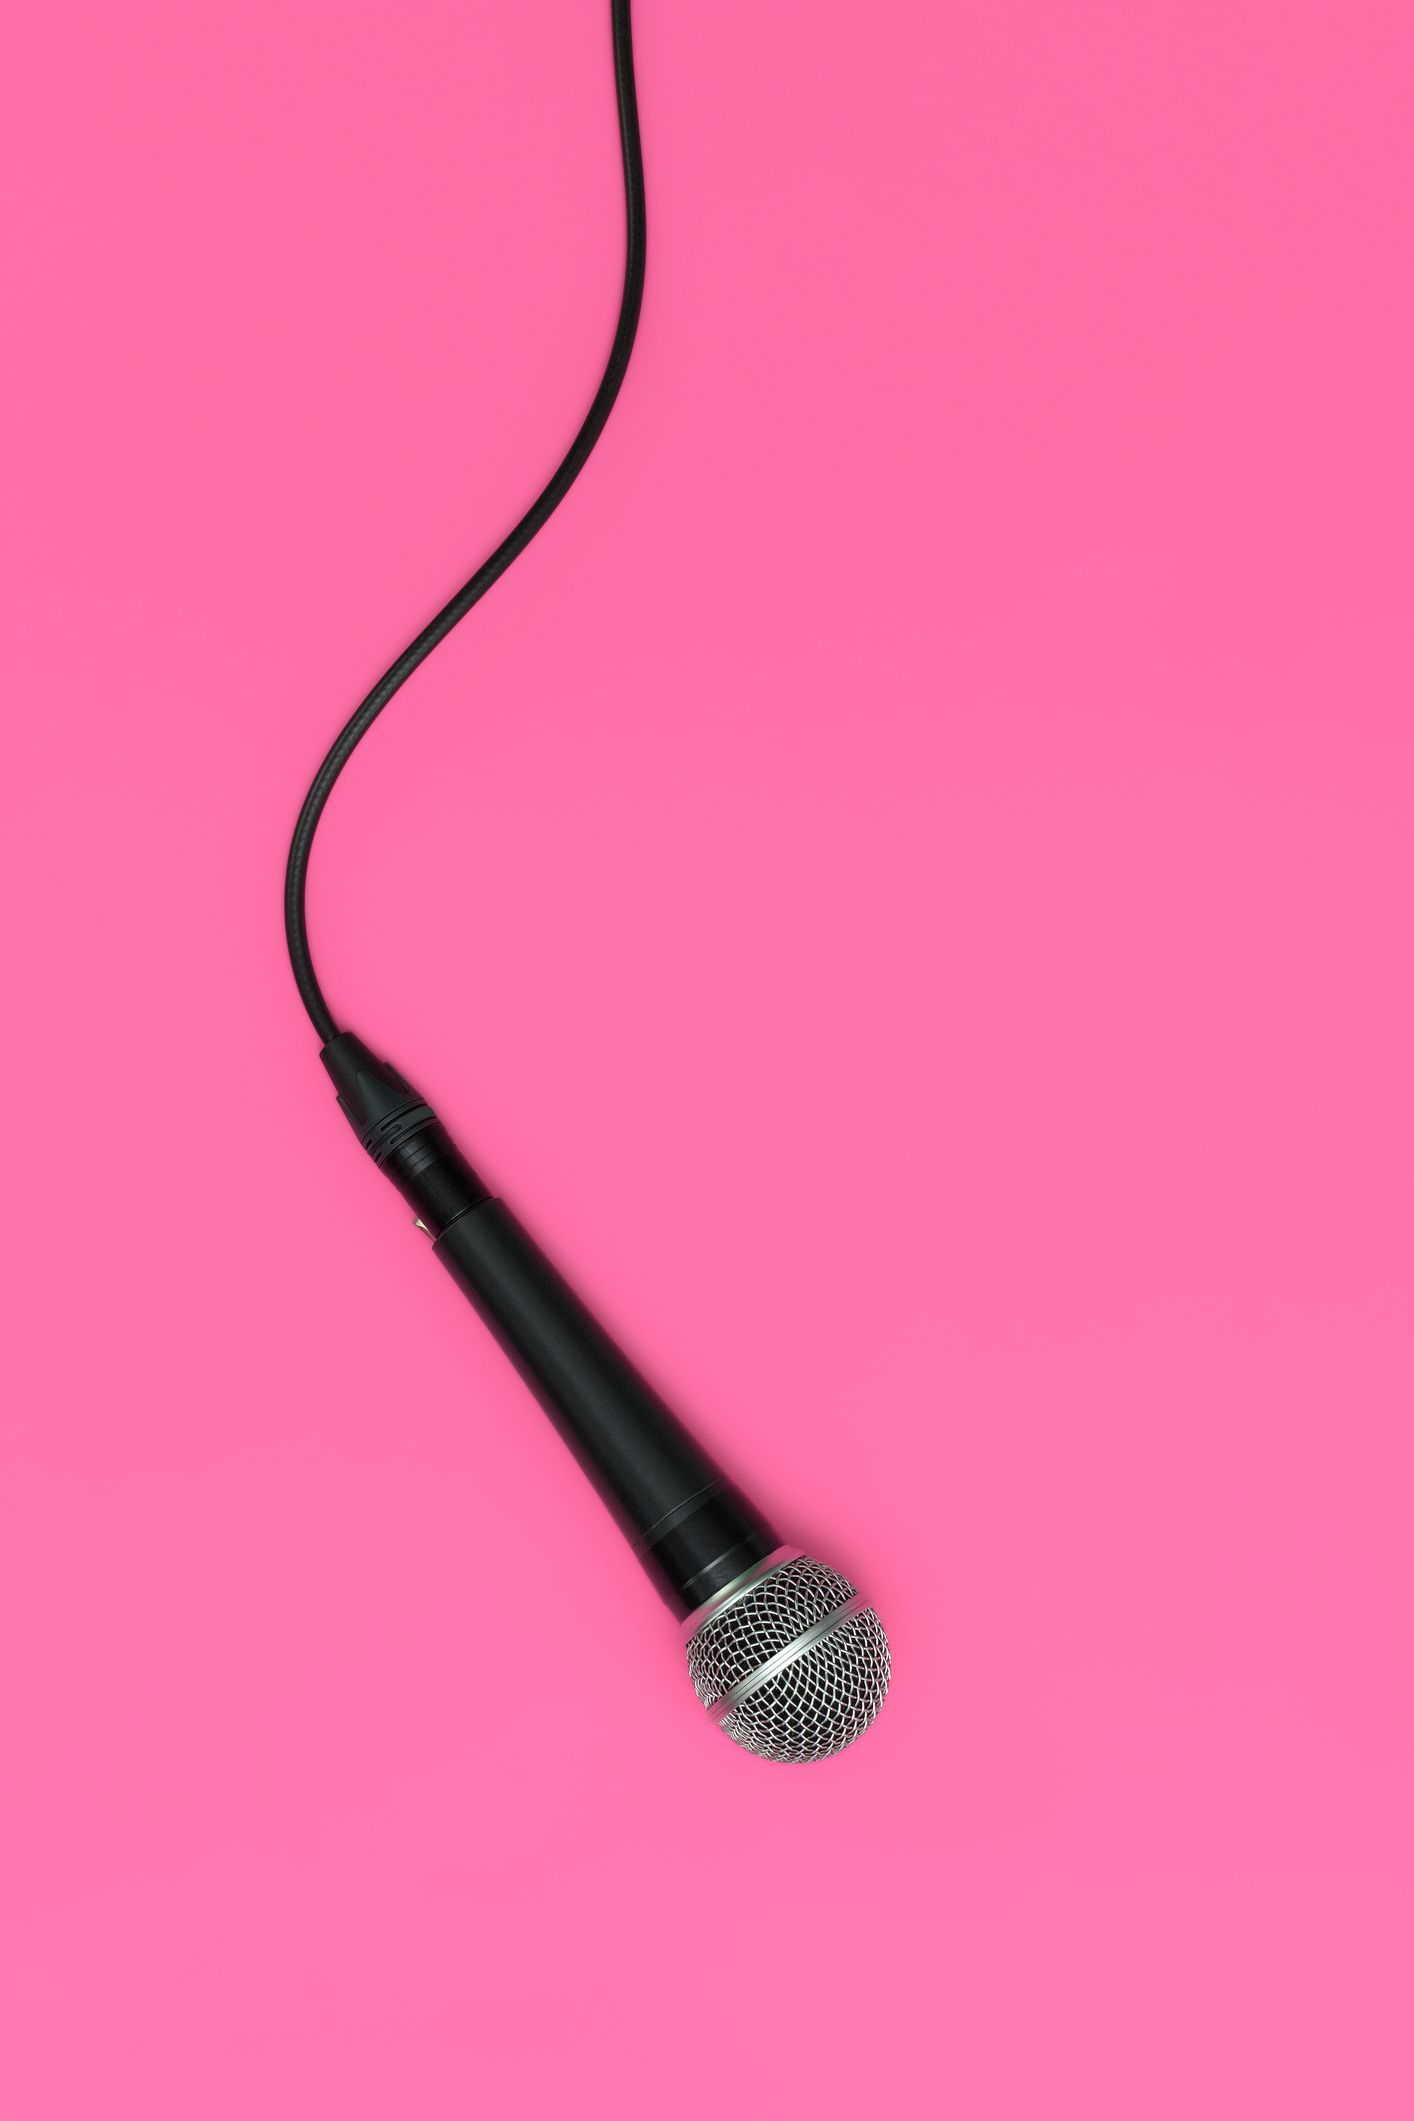microphone: (314, 1023, 900, 1772)
